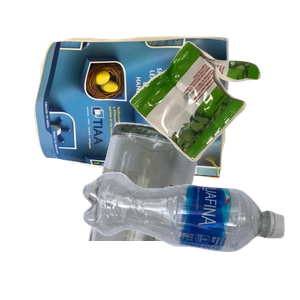glass: (86, 120, 277, 300)
paper: (31, 34, 252, 205)
plastic: (80, 169, 300, 300)
trash: (127, 39, 300, 193)
